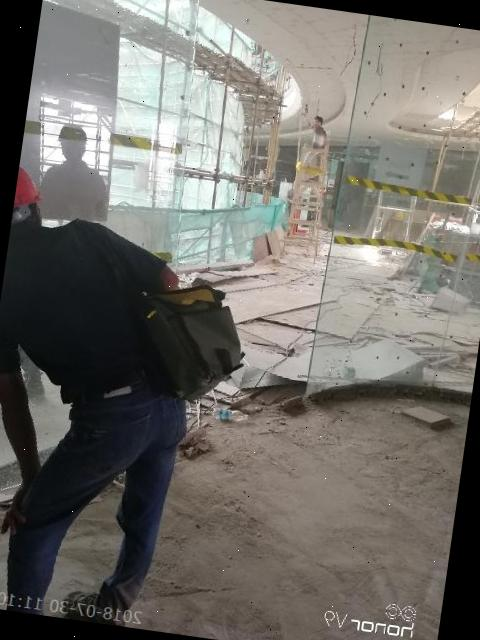helmet: (13, 164, 50, 217)
no_wear: (0, 221, 178, 386)
